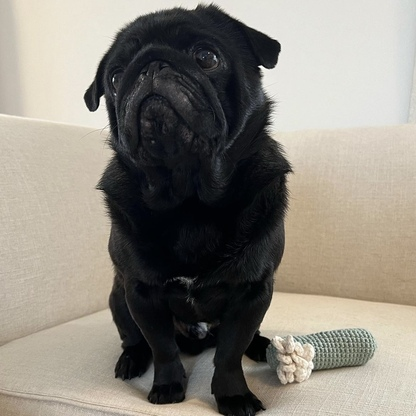Pug: (79, 1, 294, 416)
